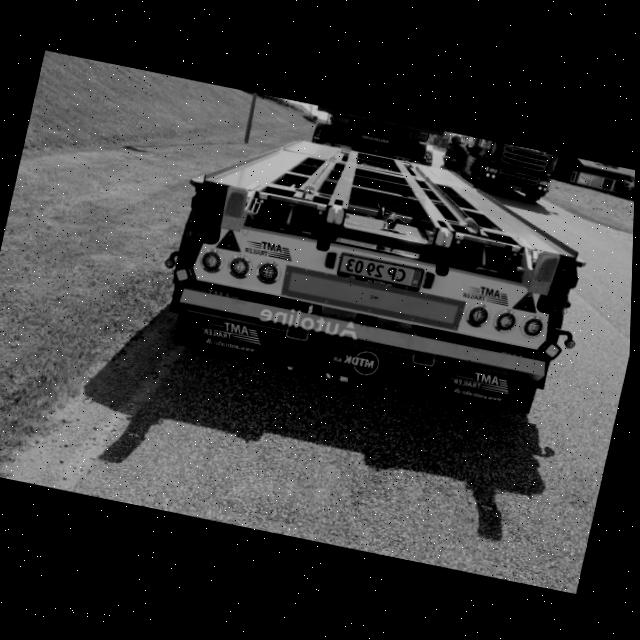license-plates: (337, 253, 423, 290)
